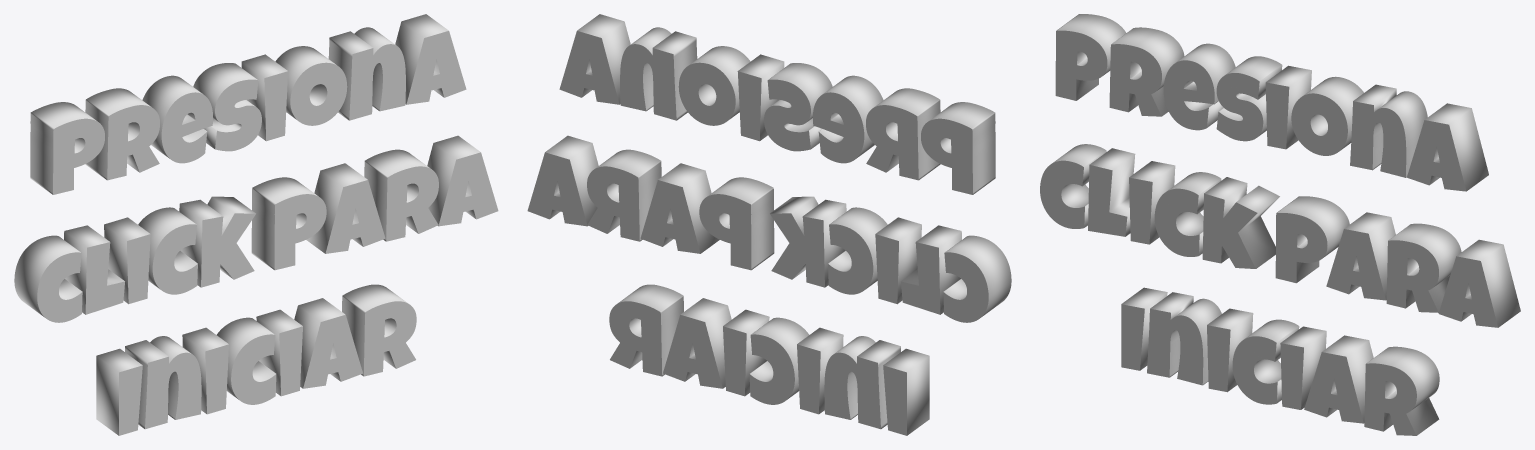
The model's file is Presione_click_para_iniciar.dae.
The picture shows the model from 3 angles, left to right: view 1: azimuth 30°, elevation 25°; view 2: azimuth 150°, elevation 25°; view 3: azimuth 330°, elevation 25°; orthographic projection.
Parts seen in each view (by area): view 1: Text; view 2: Text; view 3: Text.
Part boxes in pixels (x1=…): Text: x1=14, y1=14, x2=498, y2=435; Text: x1=527, y1=14, x2=1011, y2=435; Text: x1=1040, y1=14, x2=1520, y2=435.
Size of the model in its own units: 7.26 by 0.623 by 4.95.
Materials: 1 (1 with a texture image).
